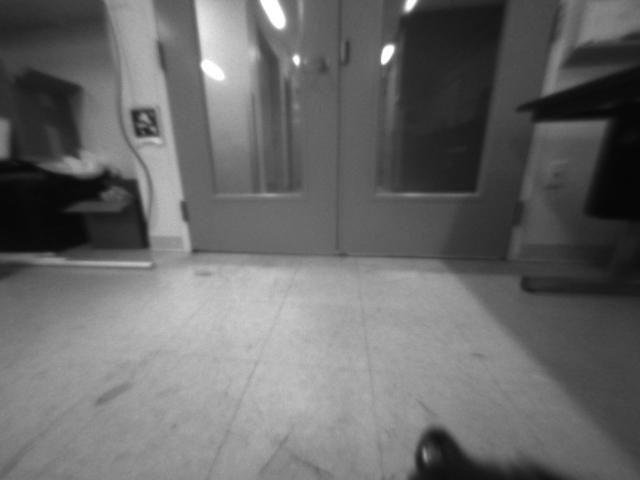door_handle: (296, 55, 330, 72)
